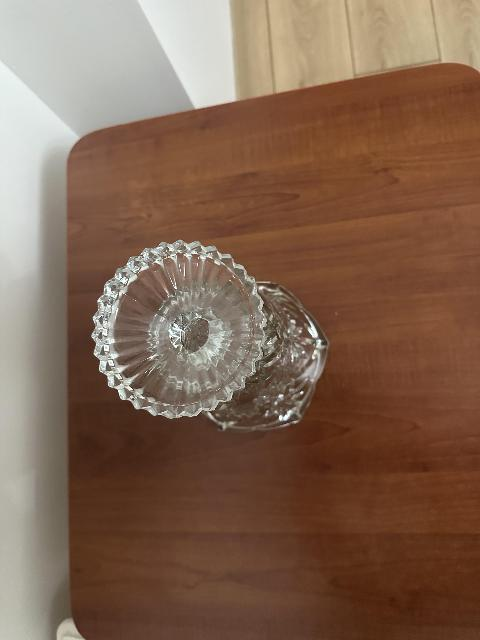Cam: (91, 237, 333, 435)
